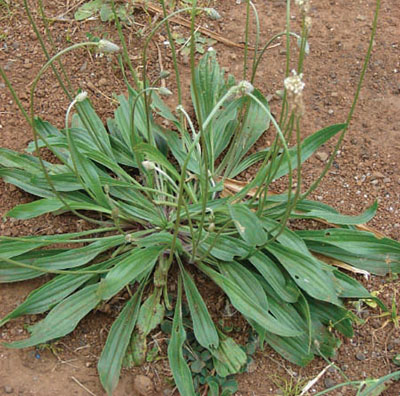buckhorn plantain: (2, 1, 389, 382)
